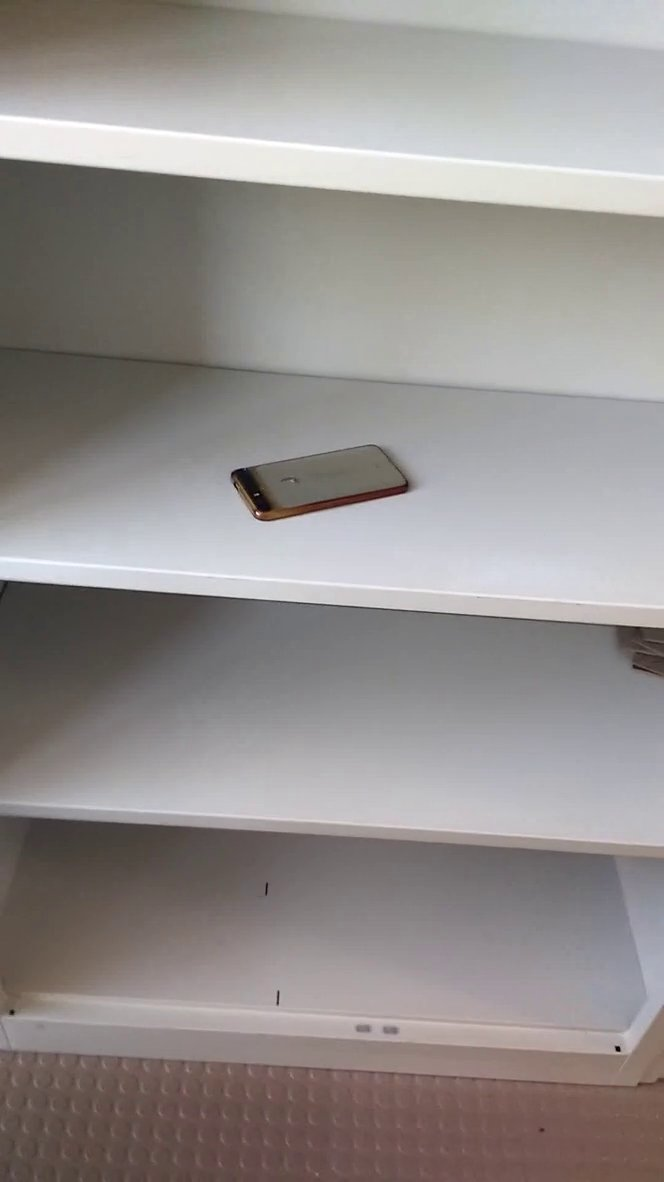phone: (225, 426, 418, 544)
